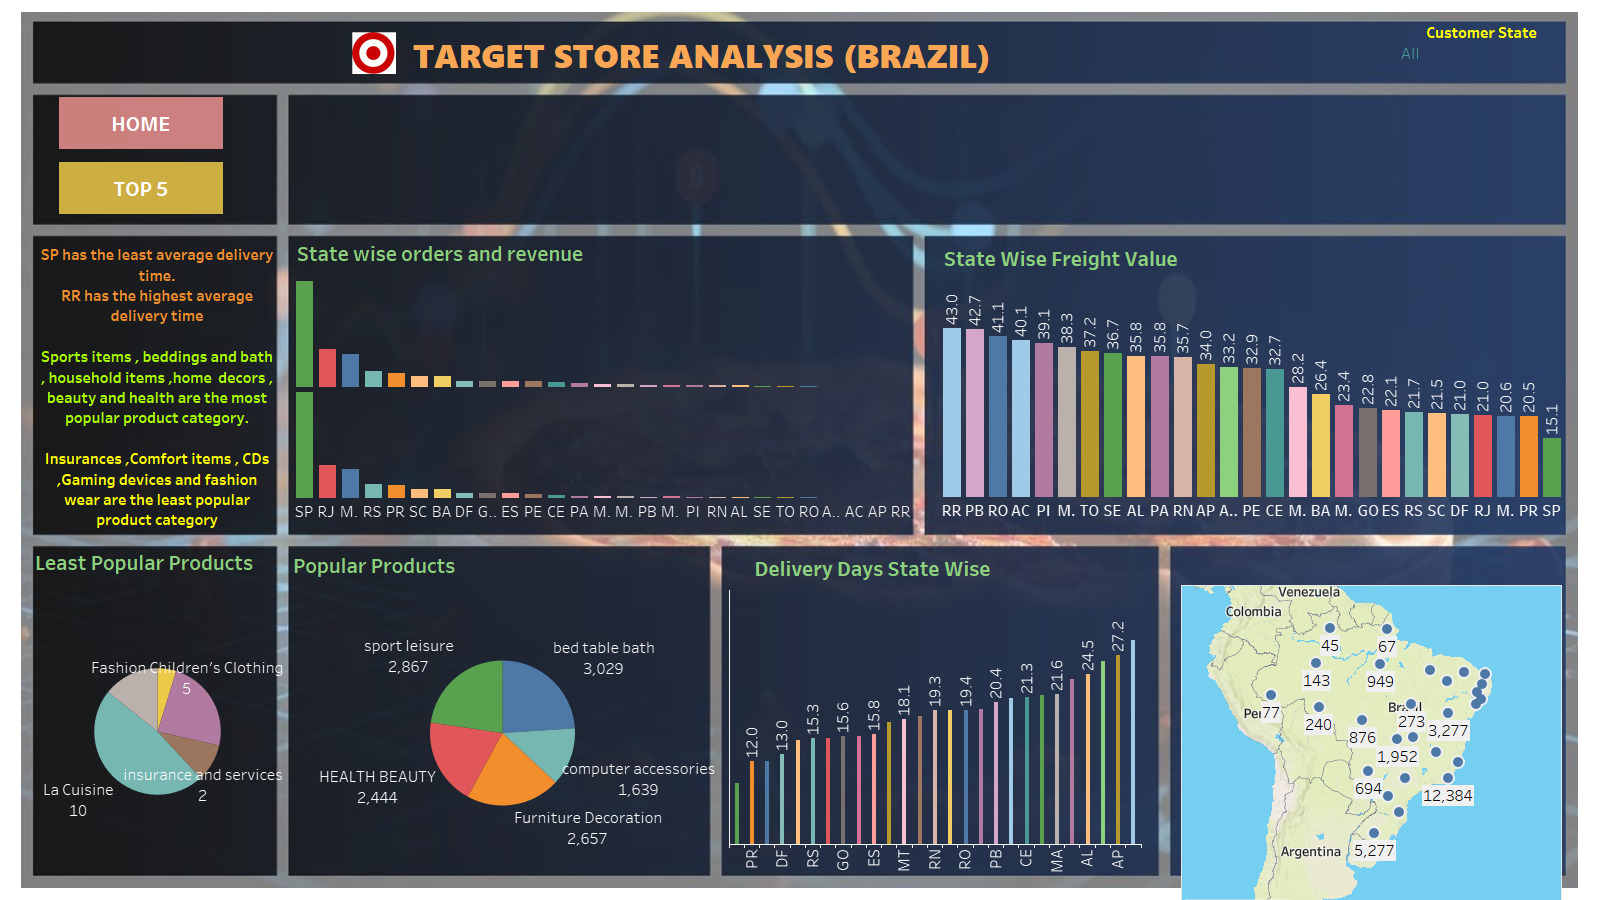

This screenshot's page, from the dashboard's own definition file:
{"tool":"tableau","page":{"name":"Dashboard 2","canvas":[1600,900],"ordinal":1},"visuals":[{"type":"image","param":"C:/Users/BOSS/Downloads/Pizza Tableau 1.jpg","box":[8,8,1584,884]},{"type":"filter","title":"State Wise Freight Value","param":"[federated.01g7wmv11aboo415uv52205k2gyl].[none:customer_state:nk]","box":[1399,21,165,60]},{"type":"text","box":[370,31,664,47]},{"type":"image","param":"C:/Users/BOSS/AppData/Local/Temp/TableauTemp/1wgd3eu1gpindb13zsrza0nwc18w/Sheets","box":[352,32,44,47]},{"type":"dashboard-object","box":[59,97,164,52]},{"type":"dashboard-object","box":[59,162,164,52]},{"type":"worksheet","title":"state wise revenue orders","mark":"Automatic","rows":["payment_value","order_id"],"cols":["customer_state"],"box":[293,233,619,290]},{"type":"worksheet","title":"State Wise Freight Value","mark":"Automatic","rows":["freight_value"],"cols":["customer_state"],"box":[940,238,624,284]},{"type":"text","box":[36,242,242,298]},{"type":"worksheet","title":"Products (2)","mark":"Pie","box":[31,542,253,336]},{"type":"worksheet","title":"Products","mark":"Pie","box":[289,545,427,333]},{"type":"worksheet","title":"delivery time","mark":"Automatic","rows":["Calculation_1078330691053699072"],"cols":["customer_state"],"box":[729,548,412,326]}]}

Visuals, with their boxes in screenshot pixels (x1, y1, x2, y2), scaled from the page's 1600x900 canvas onto the 1600x900 screenshot:
image: x1=8, y1=8, x2=1592, y2=892
"State Wise Freight Value" filter: x1=1399, y1=21, x2=1564, y2=81
text: x1=370, y1=31, x2=1034, y2=78
image: x1=352, y1=32, x2=396, y2=79
dashboard-object: x1=59, y1=97, x2=223, y2=149
dashboard-object: x1=59, y1=162, x2=223, y2=214
"state wise revenue orders" worksheet: x1=293, y1=233, x2=912, y2=523
"State Wise Freight Value" worksheet: x1=940, y1=238, x2=1564, y2=522
text: x1=36, y1=242, x2=278, y2=540
"Products (2)" worksheet (Pie marks): x1=31, y1=542, x2=284, y2=878
"Products" worksheet (Pie marks): x1=289, y1=545, x2=716, y2=878
"delivery time" worksheet: x1=729, y1=548, x2=1141, y2=874
